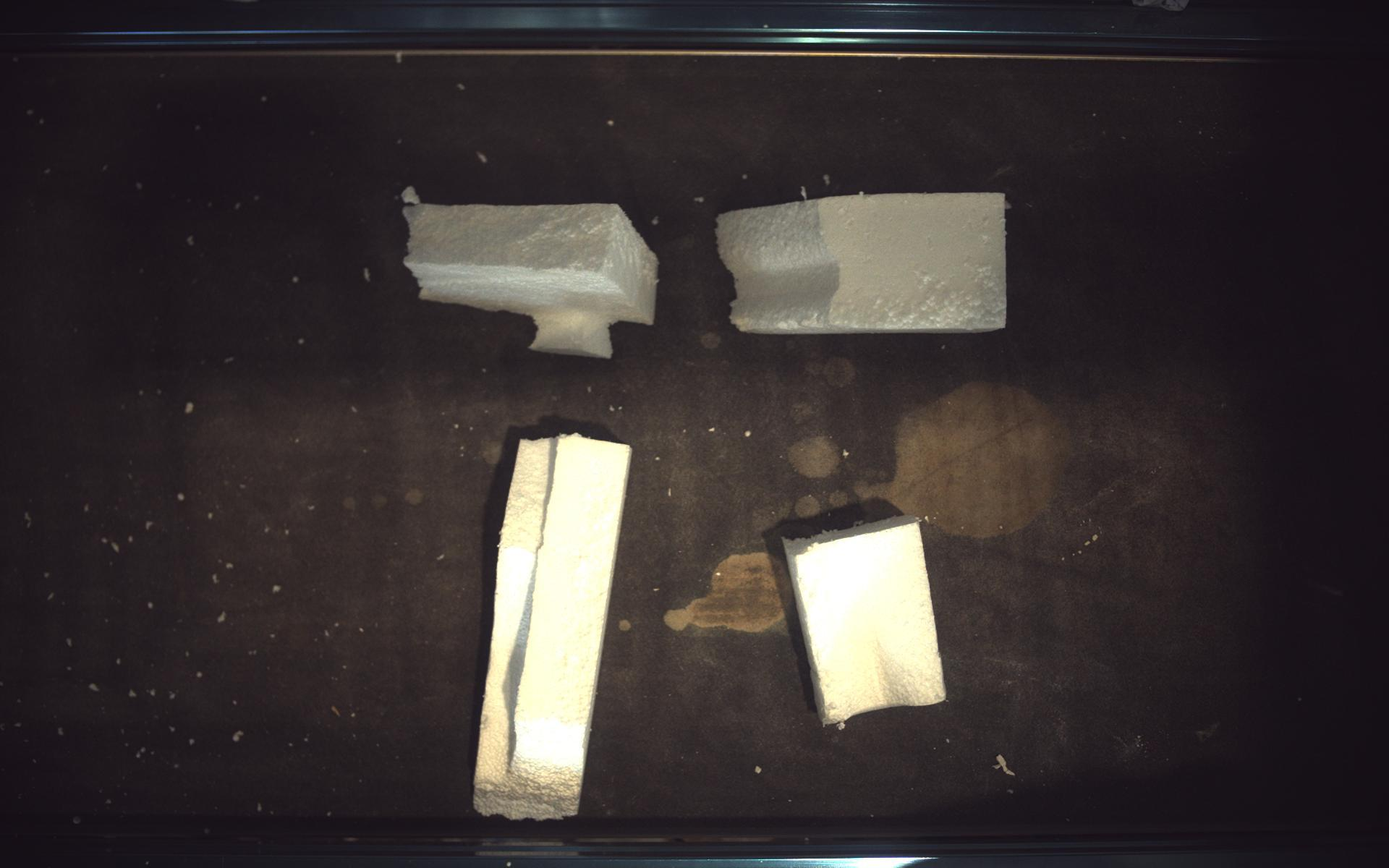foam: (474, 435, 632, 821), (717, 192, 1008, 333), (403, 203, 658, 357), (784, 516, 948, 726)
